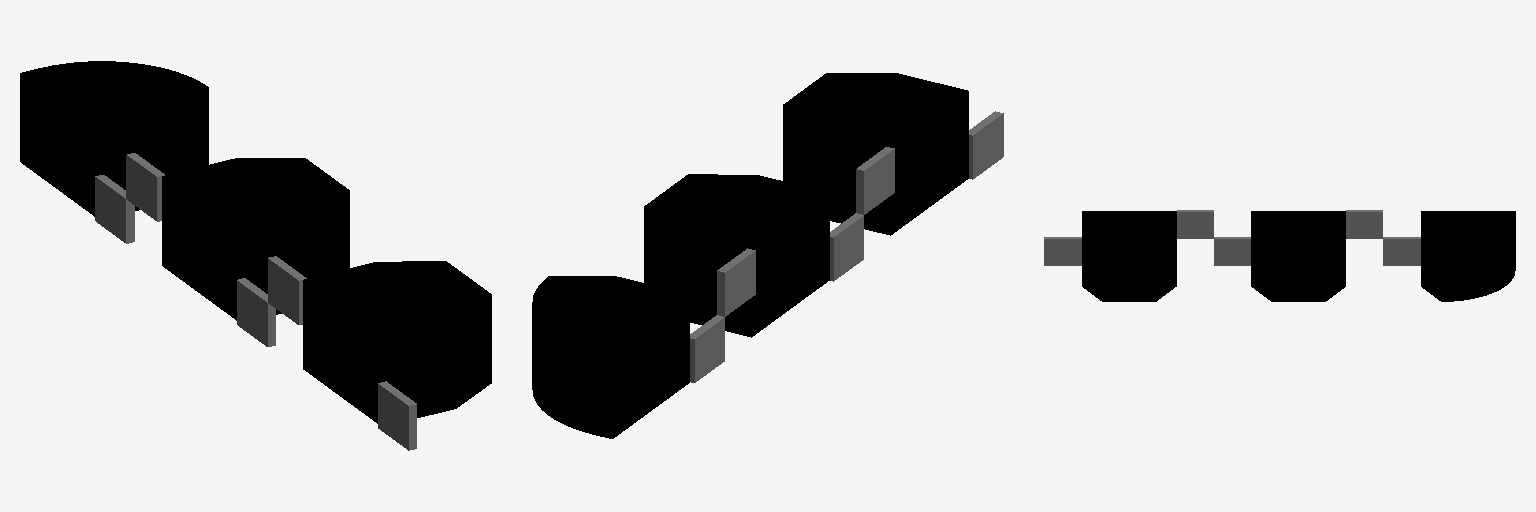
The robot description file, URDF, robot "fullFingerStraight":
<?xml version="1.0" encoding="utf-8"?>
<!-- This URDF was automatically created by SolidWorks to URDF Exporter! Originally created by [author] ([email redacted])
     Commit Version: 1.6.0-4-g7f85cfe  Build Version: 1.6.7995.38578
     For more information, please see http://wiki.ros.org/sw_urdf_exporter -->
<robot
  name="fullFingerStraight">
  <material name="link">
    <color rgba="0 0 0 1" />
  </material>
  <material name="flex">
    <color rgba="0.5 0.5 0.5 1" />
  </material>

  <link
    name="base_link">
    <inertial>
      <origin
        xyz="0.0112050092056902 0.00903435303290881 0"
        rpy="0 0 0" />
      <mass
        value="0.00667905021420444" />
      <inertia
        ixx="3.27627079841824E-07"
        ixy="2.89965033003688E-08"
        ixz="4.03896783473158E-24"
        iyy="4.32111295614106E-07"
        iyz="5.25065818515105E-24"
        izz="4.79200873099411E-07" />
    </inertial>
    <visual>
      <origin
        xyz="0 0 0"
        rpy="0 0 0" />
      <geometry>
        <mesh
          filename="package://fullFingerStraight/meshes/base_link.STL" />
      </geometry>
      <material name="link"/>
    </visual>
    <collision>
      <origin
        xyz="0 0 0"
        rpy="0 0 0" />
      <geometry>
        <mesh
          filename="package://fullFingerStraight/meshes/base_link.STL" />
      </geometry>
    </collision>
  </link>
  <link
    name="prox_flexa">
    <inertial>
      <origin
        xyz="0 0.00499999999999999 0.00396875"
        rpy="0 0 0" />
      <mass
        value="0.0001260078125" />
      <inertia
        ixx="1.7116471379598E-09"
        ixy="2.41620379657942E-26"
        ixz="3.07162714970428E-26"
        iyy="6.88045315144857E-10"
        iyz="-2.67756138980393E-25"
        izz="1.07652838551839E-09" />
    </inertial>
    <visual>
      <origin
        xyz="0 0 0"
        rpy="0 0 0" />
      <geometry>
        <mesh
          filename="package://fullFingerStraight/meshes/prox_flexa.STL" />
      </geometry>
      <material name="flex"/>
    </visual>
    <collision>
      <origin
        xyz="0 0 0"
        rpy="0 0 0" />
      <geometry>
        <mesh
          filename="package://fullFingerStraight/meshes/prox_flexa.STL" />
      </geometry>
    </collision>
  </link>
  <joint
    name="p1"
    type="continuous">
    <origin
      xyz="0 0.01905 0"
      rpy="0 0 0" />
    <parent
      link="base_link" />
    <child
      link="prox_flexa" />
    <axis
      xyz="0 0 1" />
  </joint>
  <link
    name="prox_flexb">
    <inertial>
      <origin
        xyz="-0.01190610779178 0.00406904131835934 -0.00396875"
        rpy="0 0 0" />
      <mass
        value="0.0001260078125" />
      <inertia
        ixx="8.37852992433311E-10"
        ixy="-3.61802530905427E-10"
        ixz="2.09231157315537E-25"
        iyy="1.56183946067134E-09"
        iyz="6.36725513194362E-26"
        izz="1.07652838551839E-09" />
    </inertial>
    <visual>
      <origin
        xyz="0 0 0"
        rpy="0 0 0" />
      <geometry>
        <mesh
          filename="package://fullFingerStraight/meshes/prox_flexb.STL" />
      </geometry>
      <material name="flex"/>
    </visual>
    <collision>
      <origin
        xyz="0 0 0"
        rpy="0 0 0" />
      <geometry>
        <mesh
          filename="package://fullFingerStraight/meshes/prox_flexb.STL" />
      </geometry>
    </collision>
  </link>
  <joint
    name="p2"
    type="continuous">
    <origin
      xyz="0 0.01 0"
      rpy="0 0 -1.96336367021993" />
    <parent
      link="prox_flexa" />
    <child
      link="prox_flexb" />
    <axis
      xyz="0 0 1" />
  </joint>
  <link
    name="prox_link">
    <inertial>
      <origin
        xyz="0.0109069402030736 0.0215875 0.0079375"
        rpy="0 0 0" />
      <mass
        value="0.00862121474090887" />
      <inertia
        ixx="5.8836084964385E-07"
        ixy="4.3792487116588E-23"
        ixz="-4.49995196949078E-25"
        iyy="5.44679150672075E-07"
        iyz="1.1297554972353E-23"
        izz="7.70926530117698E-07" />
    </inertial>
    <visual>
      <origin
        xyz="0 0 0"
        rpy="0 0 0" />
      <geometry>
        <mesh
          filename="package://fullFingerStraight/meshes/prox_link.STL" />
      </geometry>
      <material name="link"/>
    </visual>
    <collision>
      <origin
        xyz="0 0 0"
        rpy="0 0 0" />
      <geometry>
        <mesh
          filename="package://fullFingerStraight/meshes/prox_link.STL" />
      </geometry>
    </collision>
  </link>
  <joint
    name="p3"
    type="continuous">
    <origin
      xyz="-0.00831433015567098 0.00555624999999999 -0.0079375"
      rpy="0 0 1.96336367021993" />
    <parent
      link="prox_flexb" />
    <child
      link="prox_link" />
    <axis
      xyz="0 0 1" />
  </joint>
  <link
    name="mid_flexa">
    <inertial>
      <origin
        xyz="-6.93889390390723E-18 0.0138875 0.00396875"
        rpy="0 0 0" />
      <mass
        value="0.0001260078125" />
      <inertia
        ixx="1.7116471379598E-09"
        ixy="2.41620379657942E-26"
        ixz="3.07162714970428E-26"
        iyy="6.88045315144857E-10"
        iyz="-2.67756138980393E-25"
        izz="1.07652838551839E-09" />
    </inertial>
    <visual>
      <origin
        xyz="0 0 0"
        rpy="0 0 0" />
      <geometry>
        <mesh
          filename="package://fullFingerStraight/meshes/mid_flexa.STL" />
      </geometry>
      <material name="flex"/>
    </visual>
    <collision>
      <origin
        xyz="0 0 0"
        rpy="0 0 0" />
      <geometry>
        <mesh
          filename="package://fullFingerStraight/meshes/mid_flexa.STL" />
      </geometry>
    </collision>
  </link>
  <joint
    name="m1"
    type="continuous">
    <origin
      xyz="0 0.0254 0.0079375"
      rpy="0 0 0" />
    <parent
      link="prox_link" />
    <child
      link="mid_flexa" />
    <axis
      xyz="0 0 1" />
  </joint>
  <link
    name="mid_flexb">
    <inertial>
      <origin
        xyz="-0.0201175351206337 0.000669024042968695 -0.00396875"
        rpy="0 0 0" />
      <mass
        value="0.0001260078125" />
      <inertia
        ixx="8.37852992433313E-10"
        ixy="-3.61802530905429E-10"
        ixz="3.48344482129169E-25"
        iyy="1.56183946067135E-09"
        iyz="1.85350178824054E-25"
        izz="1.07652838551839E-09" />
    </inertial>
    <visual>
      <origin
        xyz="0 0 0"
        rpy="0 0 0" />
      <geometry>
        <mesh
          filename="package://fullFingerStraight/meshes/mid_flexb.STL" />
      </geometry>
      <material name="flex"/>
    </visual>
    <collision>
      <origin
        xyz="0 0 0"
        rpy="0 0 0" />
      <geometry>
        <mesh
          filename="package://fullFingerStraight/meshes/mid_flexb.STL" />
      </geometry>
    </collision>
  </link>
  <joint
    name="m2"
    type="continuous">
    <origin
      xyz="-0.00831433015567099 0.00555625 0"
      rpy="0 0 -1.96336367021993" />
    <parent
      link="mid_flexa" />
    <child
      link="mid_flexb" />
    <axis
      xyz="0 0 1" />
  </joint>
  <link
    name="mid_link">
    <inertial>
      <origin
        xyz="0.0109069402030735 0.030475 0.0079375"
        rpy="0 0 0" />
      <mass
        value="0.00862121474090886" />
      <inertia
        ixx="5.8836084964385E-07"
        ixy="-1.2474701874192E-23"
        ixz="1.74838790541533E-24"
        iyy="5.44679150672075E-07"
        iyz="-1.08241094436417E-23"
        izz="7.70926530117698E-07" />
    </inertial>
    <visual>
      <origin
        xyz="0 0 0"
        rpy="0 0 0" />
      <geometry>
        <mesh
          filename="package://fullFingerStraight/meshes/mid_link.STL" />
      </geometry>
      <material name="link"/>
    </visual>
    <collision>
      <origin
        xyz="0 0 0"
        rpy="0 0 0" />
      <geometry>
        <mesh
          filename="package://fullFingerStraight/meshes/mid_link.STL" />
      </geometry>
    </collision>
  </link>
  <joint
    name="m3"
    type="continuous">
    <origin
      xyz="-0.00831433015567099 0.00555625 -0.0079375"
      rpy="0 0 1.96336367021993" />
    <parent
      link="mid_flexb" />
    <child
      link="mid_link" />
    <axis
      xyz="0 0 1" />
  </joint>
  <link
    name="dist_flexa">
    <inertial>
      <origin
        xyz="-2.77555756156289E-17 0.022775 0.00396875"
        rpy="0 0 0" />
      <mass
        value="0.0001260078125" />
      <inertia
        ixx="1.7116471379598E-09"
        ixy="1.51796316464411E-27"
        ixz="7.97593411374265E-26"
        iyy="6.88045315144856E-10"
        iyz="-2.62778952575719E-25"
        izz="1.07652838551839E-09" />
    </inertial>
    <visual>
      <origin
        xyz="0 0 0"
        rpy="0 0 0" />
      <geometry>
        <mesh
          filename="package://fullFingerStraight/meshes/dist_flexa.STL" />
      </geometry>
      <material name="flex"/>
    </visual>
    <collision>
      <origin
        xyz="0 0 0"
        rpy="0 0 0" />
      <geometry>
        <mesh
          filename="package://fullFingerStraight/meshes/dist_flexa.STL" />
      </geometry>
    </collision>
  </link>
  <joint
    name="d1"
    type="continuous">
    <origin
      xyz="0 0.0254 0.0079375"
      rpy="0 0 0" />
    <parent
      link="mid_link" />
    <child
      link="dist_flexa" />
    <axis
      xyz="0 0 1" />
  </joint>
  <link
    name="dist_flexb">
    <inertial>
      <origin
        xyz="-0.0283289624494874 -0.00273099323242195 -0.00396875"
        rpy="0 0 0" />
      <mass
        value="0.0001260078125" />
      <inertia
        ixx="8.37852992433314E-10"
        ixy="-3.61802530905429E-10"
        ixz="2.92414519641386E-25"
        iyy="1.56183946067135E-09"
        iyz="1.89513791483001E-25"
        izz="1.0765283855184E-09" />
    </inertial>
    <visual>
      <origin
        xyz="0 0 0"
        rpy="0 0 0" />
      <geometry>
        <mesh
          filename="package://fullFingerStraight/meshes/dist_flexb.STL" />
      </geometry>
      <material name="flex"/>
    </visual>
    <collision>
      <origin
        xyz="0 0 0"
        rpy="0 0 0" />
      <geometry>
        <mesh
          filename="package://fullFingerStraight/meshes/dist_flexb.STL" />
      </geometry>
    </collision>
  </link>
  <joint
    name="d2"
    type="continuous">
    <origin
      xyz="-0.00831433015567099 0.00555624999999999 0"
      rpy="0 0 -1.96336367021993" />
    <parent
      link="dist_flexa" />
    <child
      link="dist_flexb" />
    <axis
      xyz="0 0 1" />
  </joint>
  <link
    name="dist_link">
    <inertial>
      <origin
        xyz="0.00999855726971254 0.0385187944688803 0.0079375"
        rpy="0 0 0" />
      <mass
        value="0.00770001963670102" />
      <inertia
        ixx="5.03930172257717E-07"
        ixy="4.29012689160972E-08"
        ixz="2.45311913011584E-23"
        iyy="4.50269705001729E-07"
        iyz="-1.58798224922961E-23"
        izz="6.30779000383533E-07" />
    </inertial>
    <visual>
      <origin
        xyz="0 0 0"
        rpy="0 0 0" />
      <geometry>
        <mesh
          filename="package://fullFingerStraight/meshes/dist_link.STL" />
      </geometry>
      <material name="link"/>
    </visual>
    <collision>
      <origin
        xyz="0 0 0"
        rpy="0 0 0" />
      <geometry>
        <mesh
          filename="package://fullFingerStraight/meshes/dist_link.STL" />
      </geometry>
    </collision>
  </link>
  <joint
    name="d3"
    type="continuous">
    <origin
      xyz="-0.00831433015567099 0.00555624999999999 -0.0079375"
      rpy="0 0 1.96336367021993" />
    <parent
      link="dist_flexb" />
    <child
      link="dist_link" />
    <axis
      xyz="0 0 1" />
  </joint>
</robot>

--- Render facts (derived) ---
Views: 3 orthographic renders of the robot side by side, from view 1: azimuth 30°, elevation 25°; view 2: azimuth 150°, elevation 25°; view 3: azimuth 270°, elevation 25°.
Robot: fullFingerStraight — 10 links, 9 joints (9 continuous); root link base_link; default pose: every joint at zero.
Links seen in each view (by area): view 1: prox_link, mid_link, dist_link, prox_flexb, dist_flexb, mid_flexb, dist_flexa, mid_flexa; view 2: mid_link, prox_link, dist_link, dist_flexa, mid_flexa, dist_flexb, prox_flexb, mid_flexb; view 3: mid_link, prox_link, dist_link, prox_flexb, dist_flexb, mid_flexa, mid_flexb, dist_flexa.
Boxes of the visible links, x1,y1,x2,y2 form: prox_link: [303, 261, 491, 423]; mid_link: [162, 158, 349, 320]; dist_link: [20, 61, 208, 216]; prox_flexb: [378, 381, 416, 450]; dist_flexb: [95, 175, 134, 243]; mid_flexb: [237, 278, 275, 346]; dist_flexa: [126, 153, 164, 221]; mid_flexa: [268, 256, 306, 324]; mid_link: [644, 174, 829, 337]; prox_link: [783, 73, 968, 235]; dist_link: [532, 276, 689, 438]; dist_flexa: [717, 248, 755, 316]; mid_flexa: [856, 147, 894, 214]; dist_flexb: [690, 315, 724, 382]; prox_flexb: [969, 111, 1003, 179]; mid_flexb: [830, 213, 863, 281]; mid_link: [1251, 211, 1345, 301]; prox_link: [1082, 211, 1176, 301]; dist_link: [1421, 211, 1515, 301]; prox_flexb: [1044, 237, 1081, 265]; dist_flexb: [1383, 237, 1420, 265]; mid_flexa: [1177, 210, 1213, 238]; mid_flexb: [1214, 237, 1250, 265]; dist_flexa: [1346, 210, 1382, 238].
Size in the robot's own frame: 0.0243 by 0.1262 by 0.0159 metres.
Meshes: 10 distinct files referenced, 8 mesh visuals loaded (8 binary STL); not drawn: 2 (reference not matched to a file when rendering).
